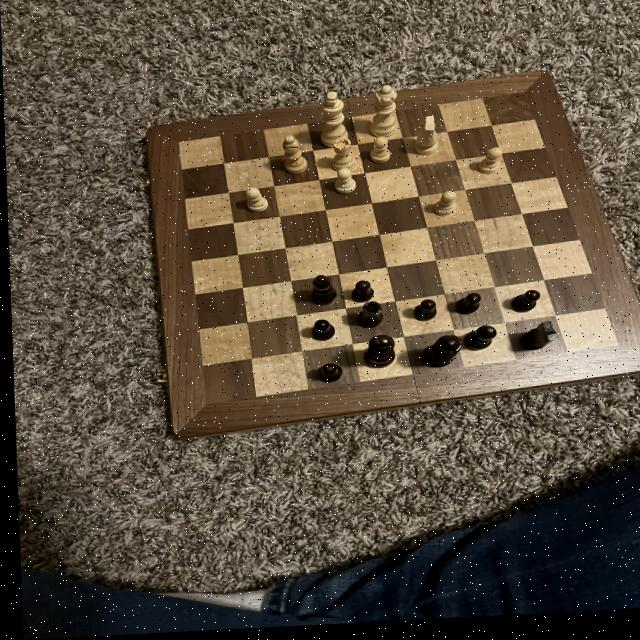bishop: (300, 274, 335, 314), (460, 324, 498, 360)
black-bishop: (354, 337, 400, 375)
black-king: (511, 323, 563, 361)
black-knight: (500, 292, 544, 321), (301, 318, 335, 353), (341, 281, 376, 311), (446, 295, 482, 324), (405, 300, 438, 330), (311, 364, 343, 393)
black-pawn: (411, 336, 460, 376)
black-queen: (348, 304, 385, 336)
black-rook: (275, 136, 307, 181)
white-bishop: (313, 92, 354, 158)
white-king: (409, 117, 444, 165)
white-knight: (235, 187, 273, 220), (474, 148, 505, 185), (328, 170, 362, 203), (425, 193, 457, 224), (365, 138, 396, 170)
white-pawn: (362, 86, 401, 147)
white-queen: (327, 140, 355, 178)
